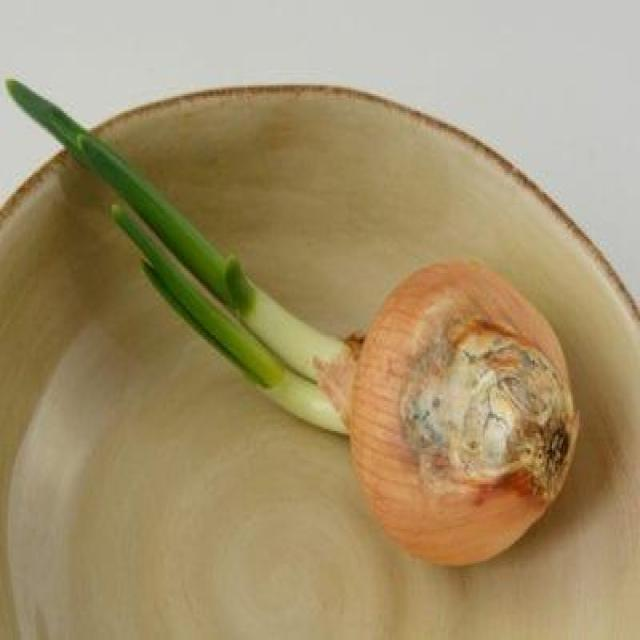Onion: (3, 76, 349, 453), (342, 264, 584, 568)
